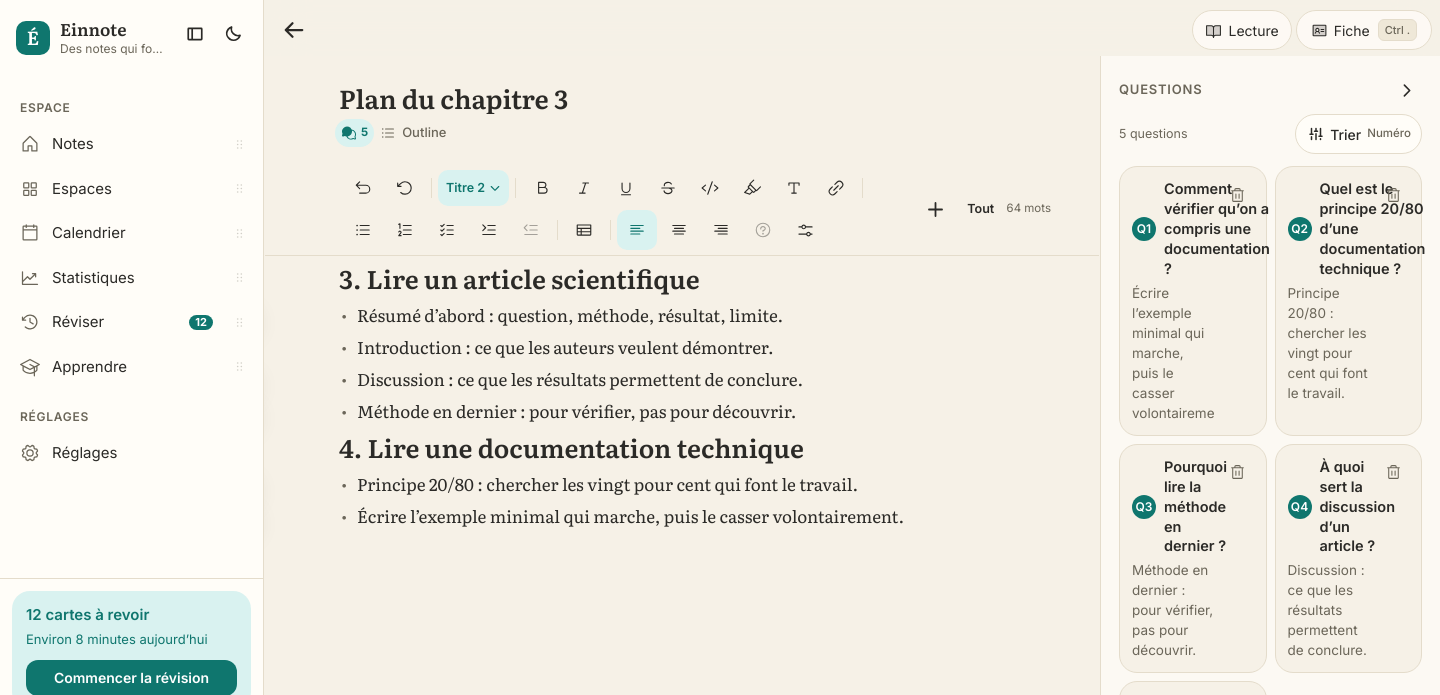
it: Barre de mise en forme › expose les gestes de base et les menus de transformation
Check: the element named "Mise en forme" is shown, box [339,168,1059,250]
Check: the button named "Gras" is shown, box [522,168,562,208]
// le menu « Transformer » s’ouvre et propose les six types de bloc
Click the button with aria-label "Type de bloc" at (474, 188), box [438,170,509,206]
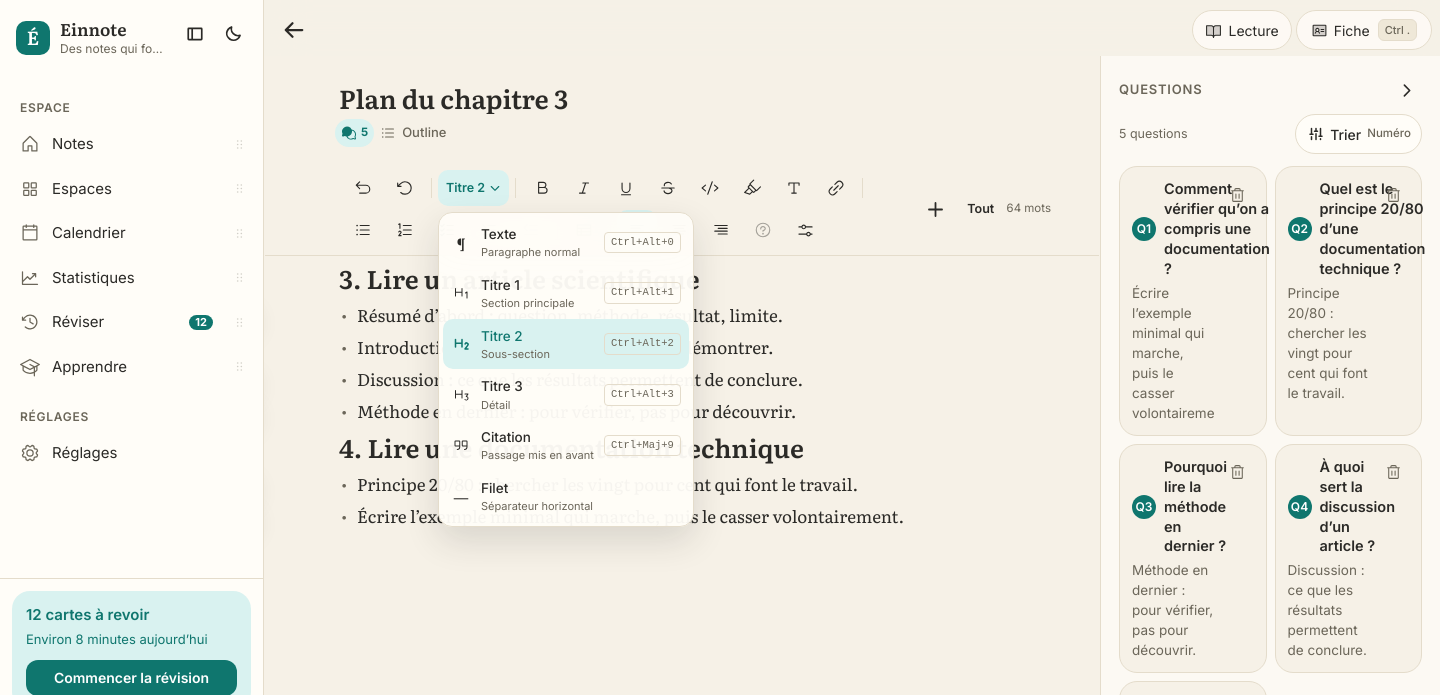
Check: the menu named "Transformer le bloc" is shown, box [438,212,694,526]
Check: the menu item "Titre 3 Détail Ctrl+Alt+3" is shown, box [443,369,689,420]
